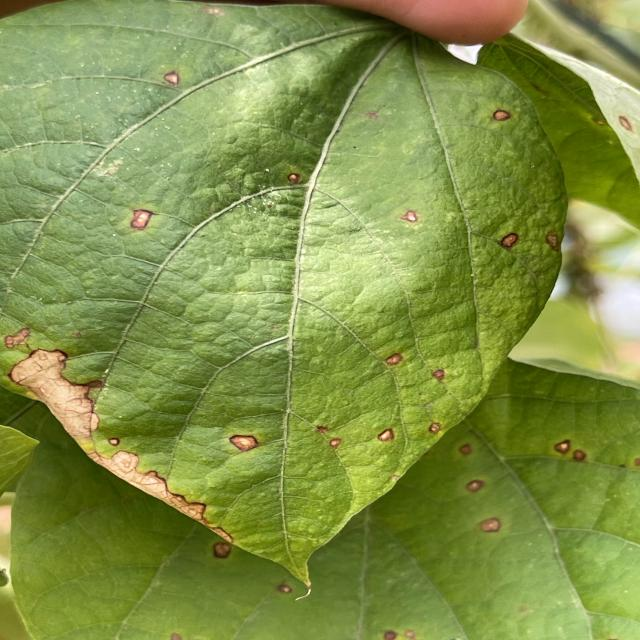Dolicos bean_cercospora leaf spot: (0, 0, 573, 574)
